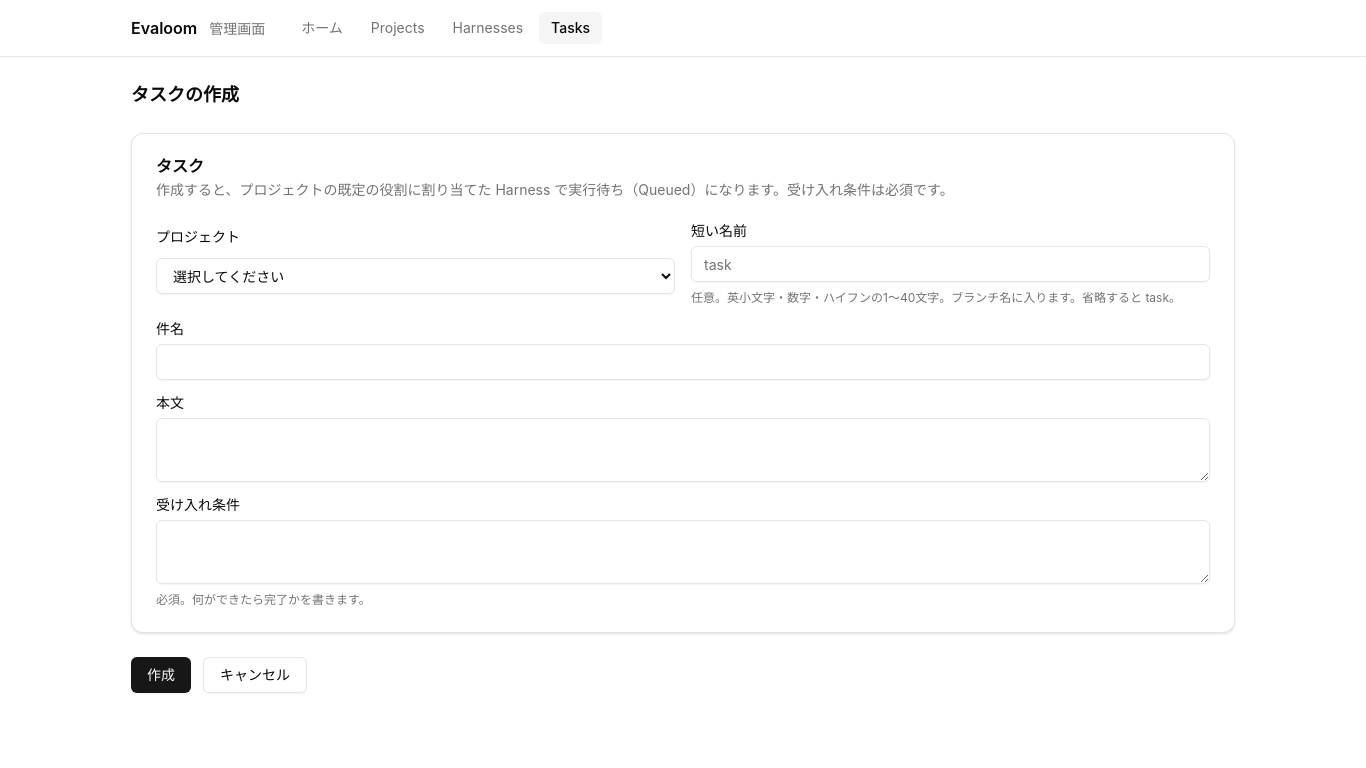
Scenario: タスク作成 › Default Harness の割り当てが無い 422 はプロジェクトの項目に出す
Select "Alpha" in the dropdown labelled "プロジェクト". click: (416, 276)
box: [156,258,675,294]
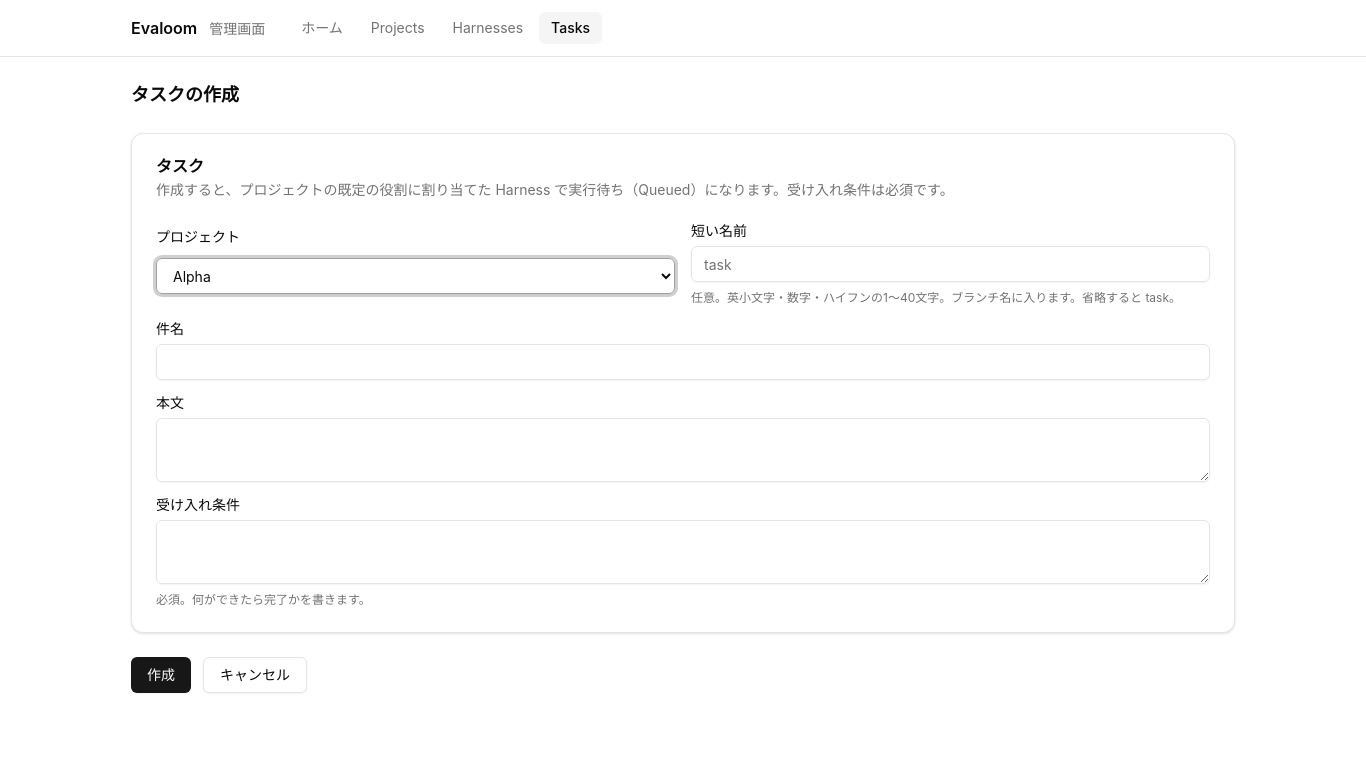
Type "ログイン画面" into the field labelled "件名". click: (683, 362)
box: [156,344,1210,380]
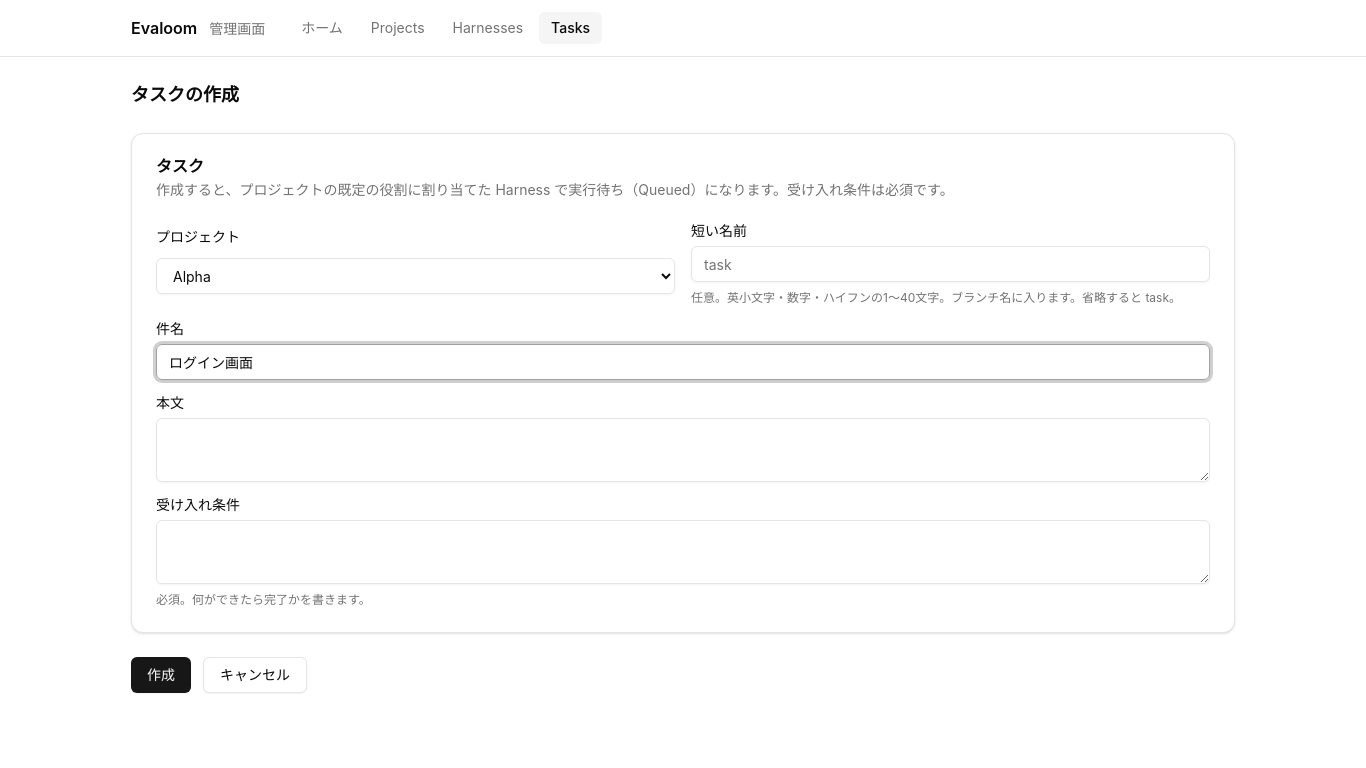
Type "ログインフォームを作る" into the text box labelled "本文". click: (683, 450)
box: [156,418,1210,482]
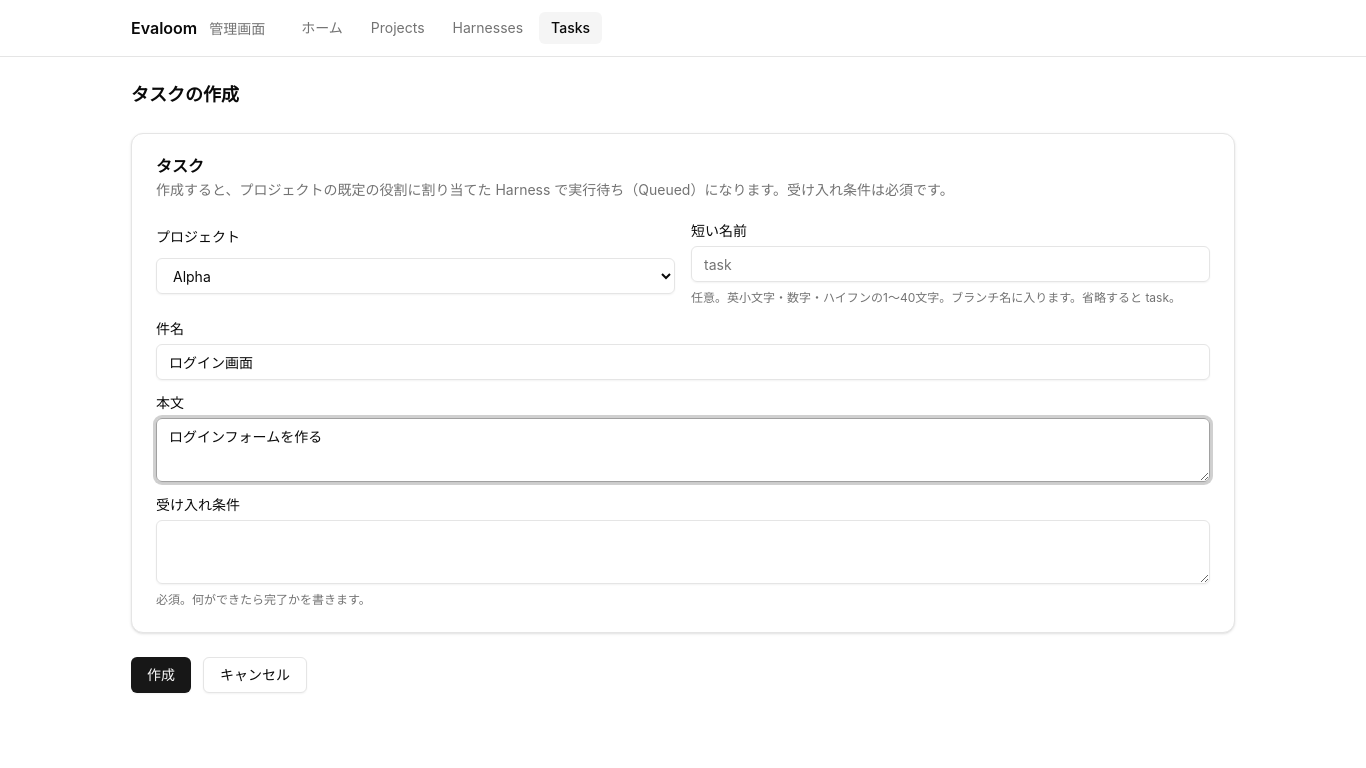
Type "条件" into the text box labelled "受け入れ条件". click: (683, 552)
box: [156,520,1210,584]
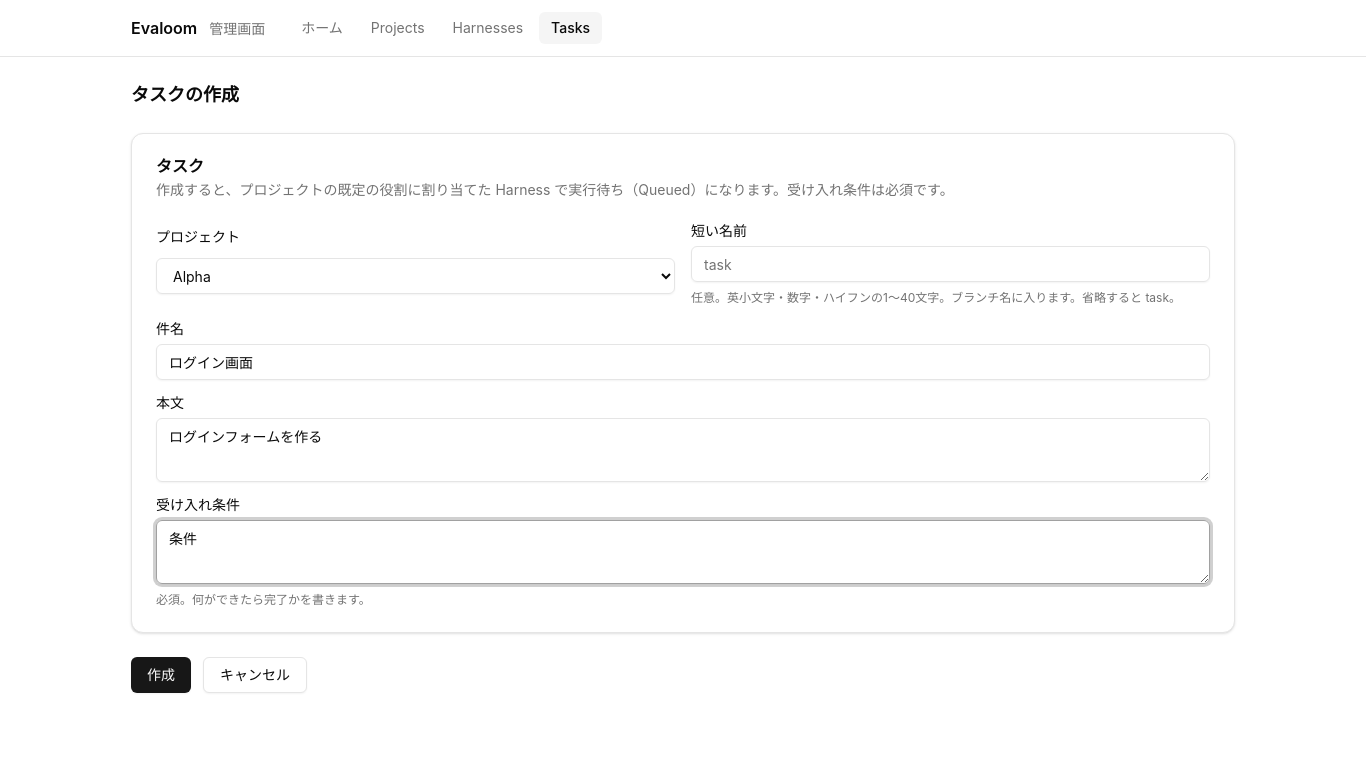
Click the button "作成". click: (161, 675)
box: [131,657,191,693]
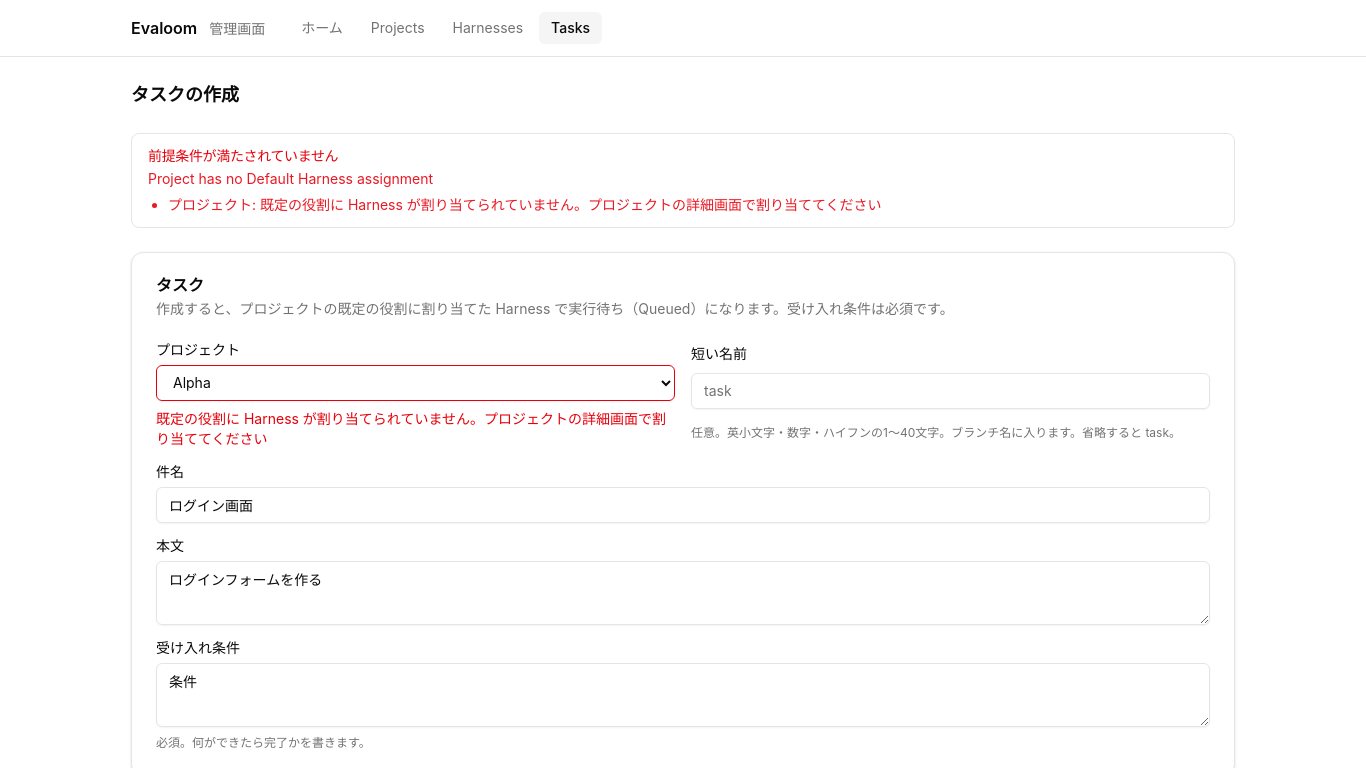
Now the text "既定の役割に Harness が割り当てられていません。プロジェクトの詳細画面で割り当ててください" is shown, box [156,409,675,449]
